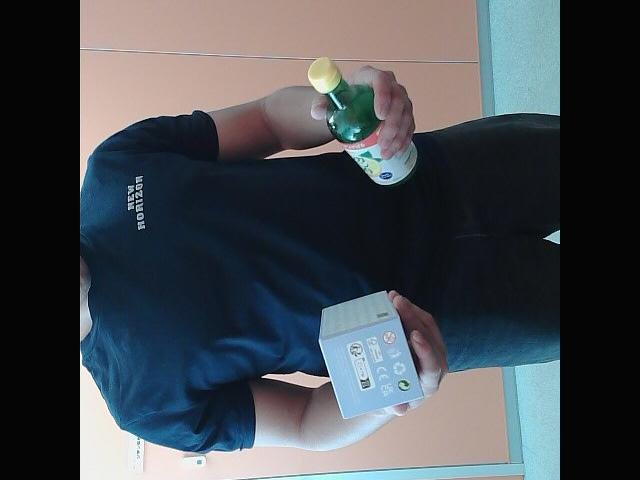Blind_box: (316, 280, 426, 420)
Lemon_sapporo: (294, 58, 419, 184)
